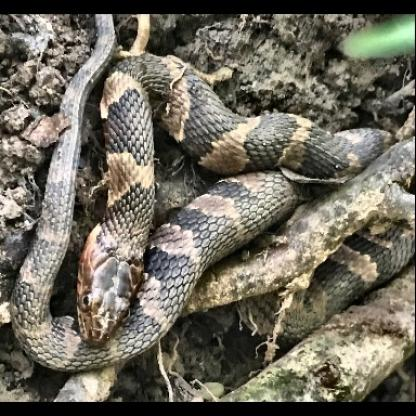Snake: (8, 51, 398, 388)
